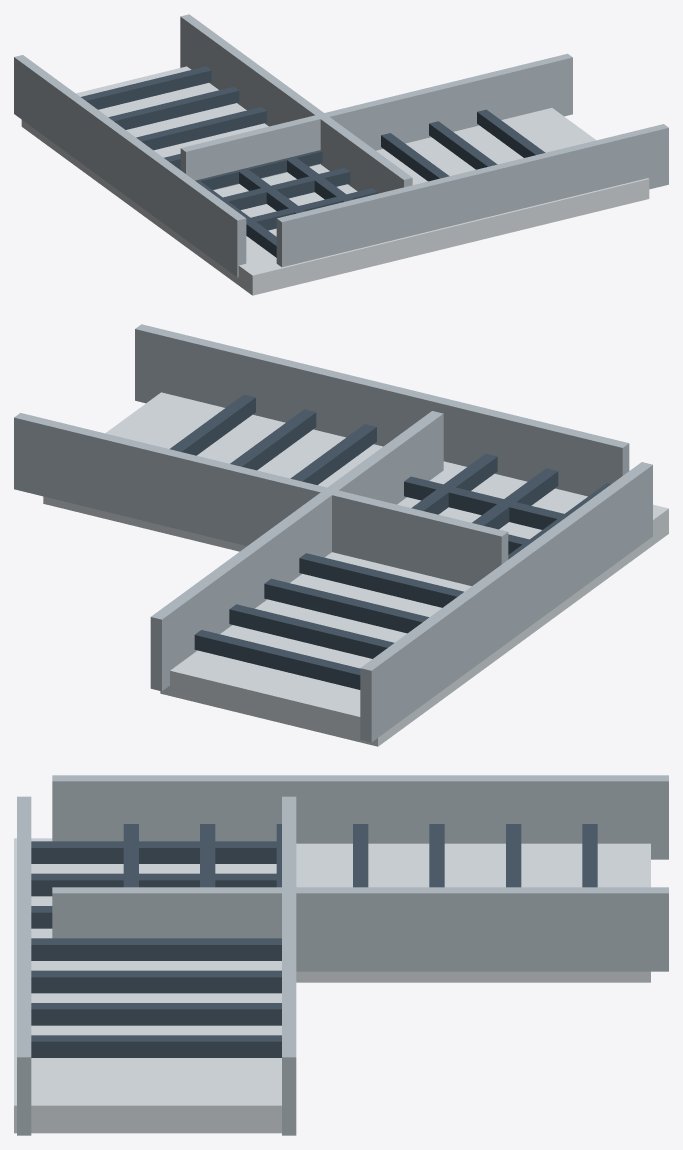
File: cable-tray-elbow.glb
3 renders of one model, top to bottom at view 1: azimuth 30°, elevation 25°; view 2: azimuth 150°, elevation 25°; view 3: azimuth 270°, elevation 25°, orthographic. The views are drawn at different scales.
Visible parts, largest first — view 1: cable-tray-elbow; view 2: cable-tray-elbow; view 3: cable-tray-elbow.
Boxes of the visible parts, <box> form: cable-tray-elbow: <box>14,14,668,295</box>; cable-tray-elbow: <box>14,324,668,746</box>; cable-tray-elbow: <box>14,775,668,1135</box>.
Size of the model in its own units: 1.31 by 0.195 by 1.28.
